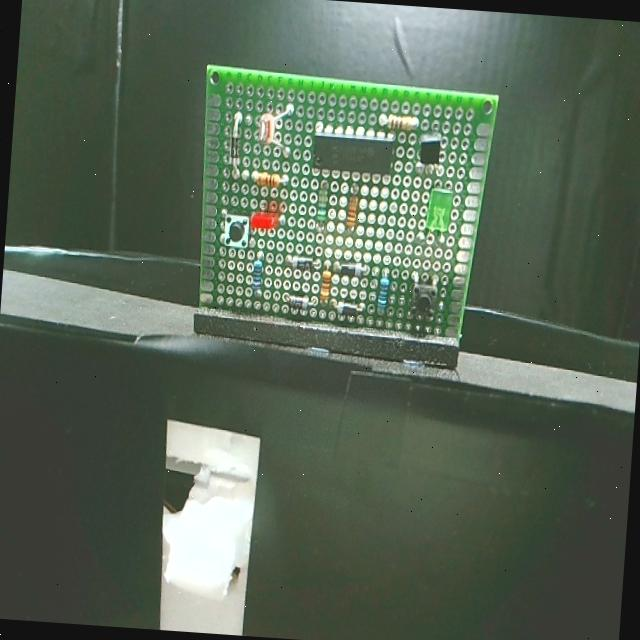IC: (302, 126, 400, 182)
cds: (253, 110, 277, 146)
diode: (224, 122, 244, 174), (280, 289, 312, 316), (336, 253, 366, 280), (284, 253, 315, 273), (338, 298, 362, 323)
led: (428, 182, 454, 240), (250, 207, 278, 240)
resistor: (245, 160, 284, 192), (382, 105, 422, 135), (341, 189, 363, 234), (373, 271, 391, 325), (313, 264, 334, 310), (313, 182, 332, 226), (246, 260, 268, 298)
switch: (405, 276, 444, 326), (218, 202, 253, 254)
transistor: (414, 129, 446, 176)
